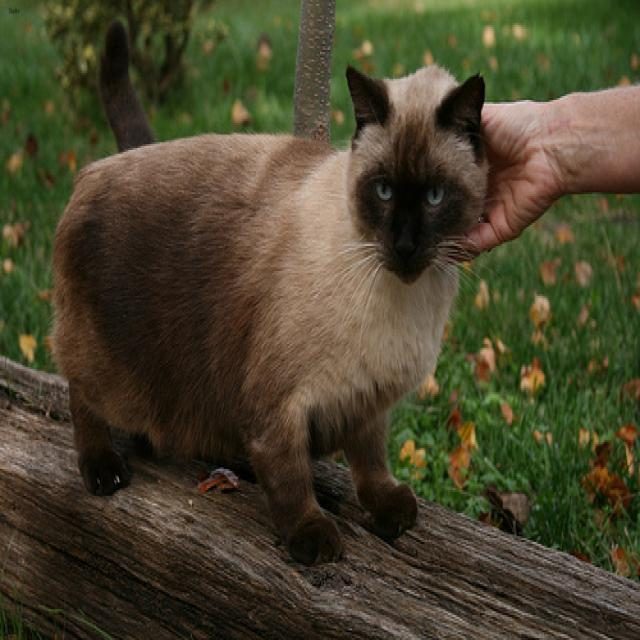Siamese: (342, 54, 498, 288)
